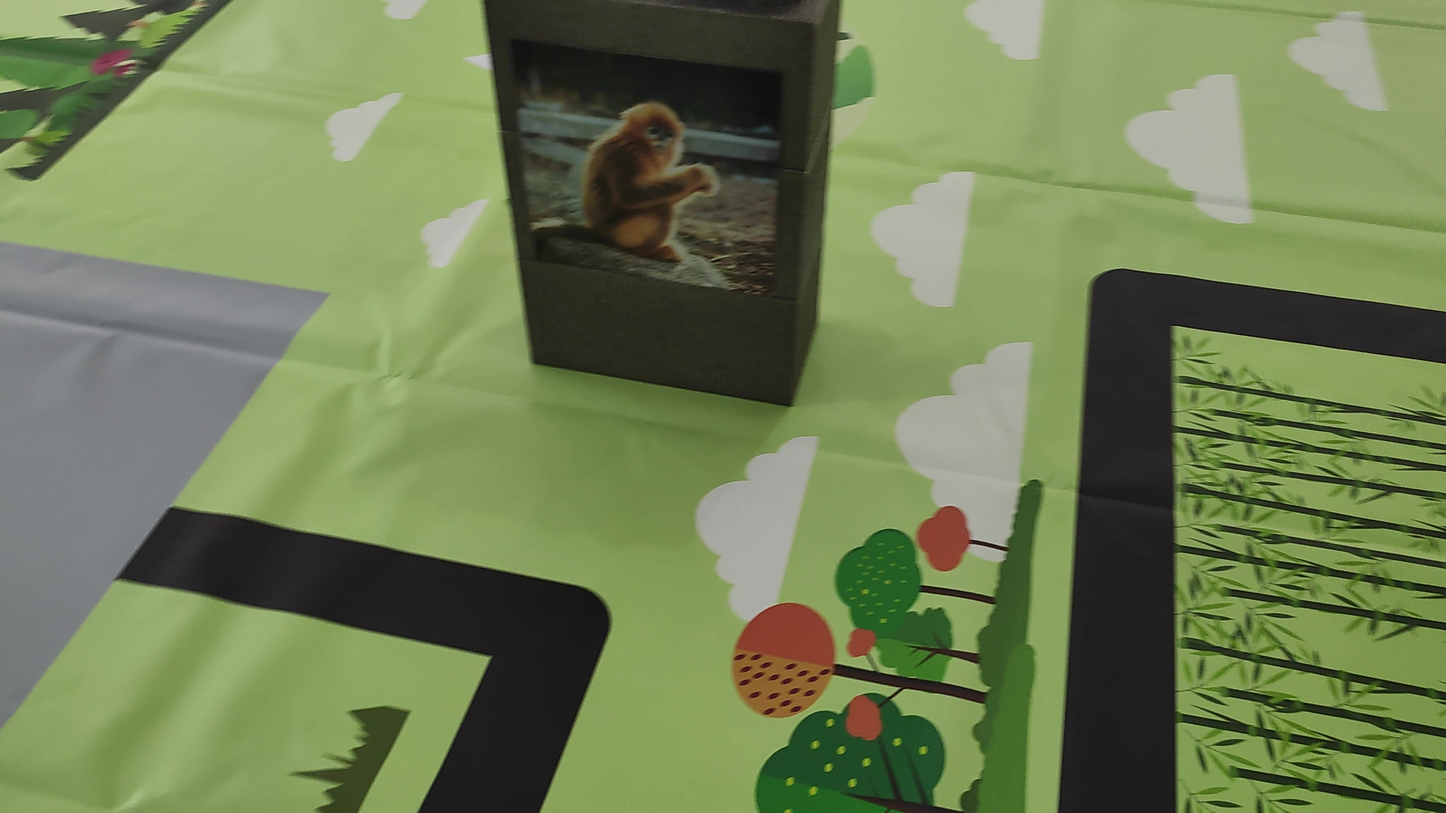monkey: (536, 51, 773, 301)
